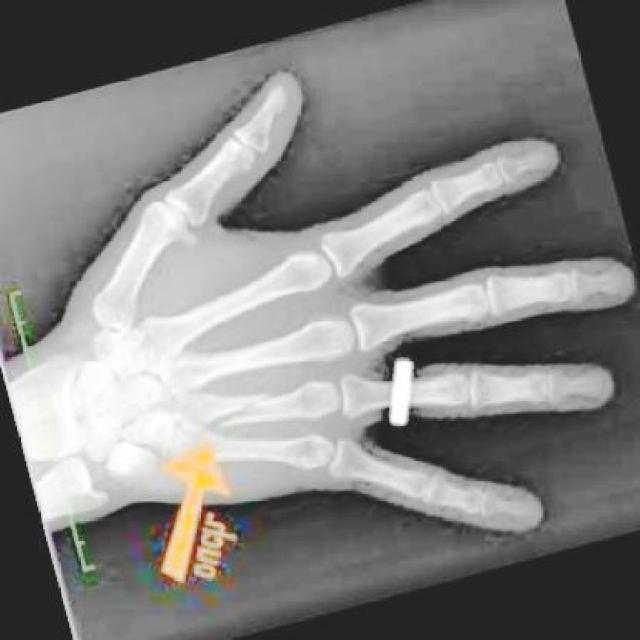Fracture: (209, 379, 283, 447)
